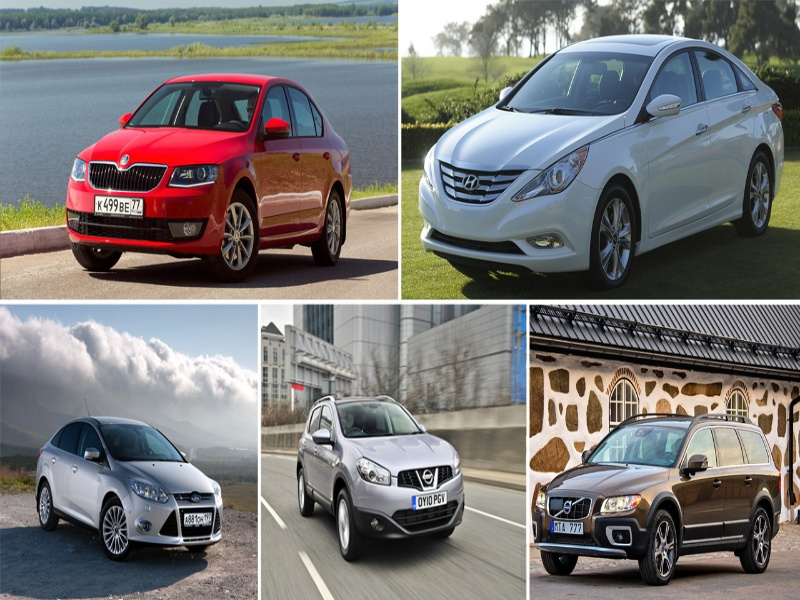car: (417, 33, 784, 288), (66, 74, 351, 274), (531, 415, 781, 584), (297, 394, 466, 559), (35, 415, 224, 556)
plate: (95, 196, 142, 213), (412, 492, 447, 508), (183, 512, 212, 525), (552, 521, 581, 533)
